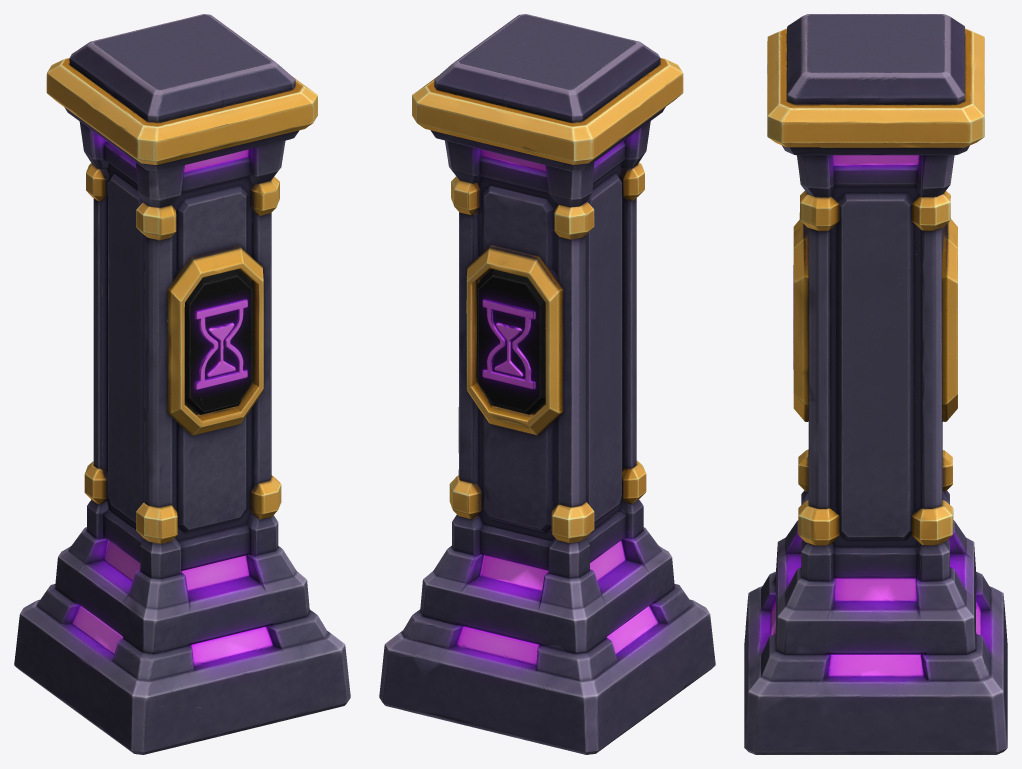
The model's file is slow.glb.
3 renders of one model, left to right at view 1: azimuth 30°, elevation 25°; view 2: azimuth 150°, elevation 25°; view 3: azimuth 270°, elevation 25°, orthographic. The views are drawn at different scales.
Bounding box in the file's own units: 0.6913 × 1.9 × 0.6912.
Materials: 1 (1 with a texture image).
